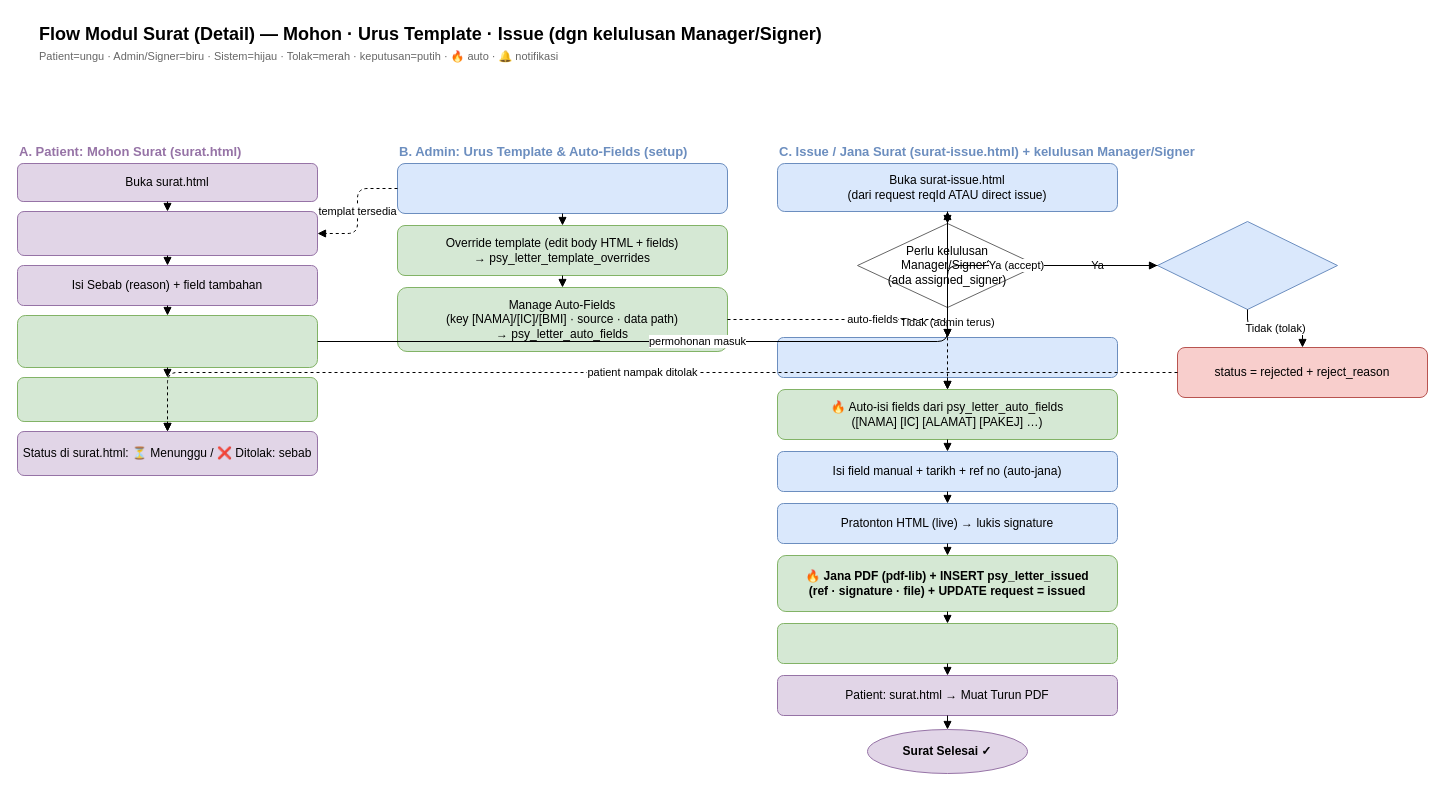
This 1445x791 diagram has some shape labels left out. Here are the shapes that lost their labels. From the top down, the box of each, then its label:
(396, 162, 728, 214): surat.html → Templates (7 hardcoded: KWSP / PERKESO / RELA / …)
(16, 210, 318, 256): Pilih Jenis Surat (template / Lain-lain custom)
(1156, 220, 1338, 310): Manager / Signer: Semak & Accept?
(16, 314, 318, 368): Hantar → INSERT psy_letter_requests (status = pending · assigned_signer_id)
(776, 336, 1118, 378): Pilih pesakit + templat (auto jika dari request)
(16, 376, 318, 422): 🔔 Notify signer (jika templat ada assigned_signer)
(776, 622, 1118, 664): 🔔 Notify patient “Surat Anda Sedia”
